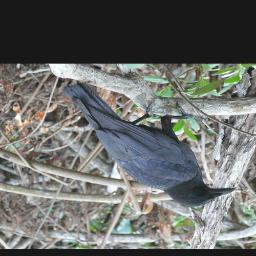Crow: (61, 79, 238, 208)
